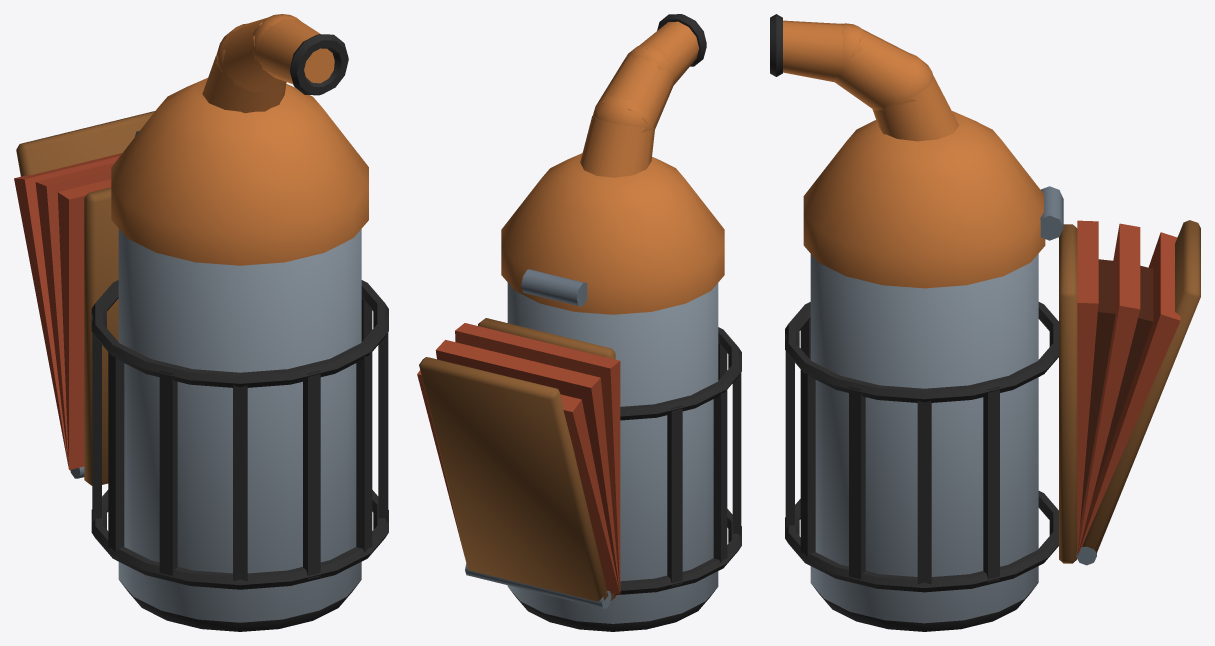
File: smoker.fbx
3 views of the same model, side by side, from view 1: azimuth 30°, elevation 25°; view 2: azimuth 150°, elevation 25°; view 3: azimuth 270°, elevation 25° (orthographic). The views are drawn at different scales.
Parts seen in each view (by area): view 1: Canister, Lid, Bellows, BellowsLever; view 2: Canister, Lid, BellowsLever, Bellows; view 3: Canister, Lid, Bellows, BellowsLever.
Part boxes in pixels (left/top/right/bottom): Canister: left=91, top=229, right=388, bottom=631; Lid: left=111, top=14, right=368, bottom=265; Bellows: left=14, top=153, right=122, bottom=485; BellowsLever: left=16, top=111, right=154, bottom=478; Canister: left=507, top=283, right=741, bottom=631; Lid: left=501, top=14, right=724, bottom=314; BellowsLever: left=419, top=357, right=611, bottom=608; Bellows: left=417, top=318, right=620, bottom=600; Canister: left=785, top=254, right=1058, bottom=631; Lid: left=770, top=14, right=1063, bottom=288; Bellows: left=1059, top=220, right=1180, bottom=563; BellowsLever: left=1076, top=220, right=1200, bottom=565.
Bounding box in the file's own units: 0.1224 × 0.2717 × 0.1861.
1 material, 1 textured.
